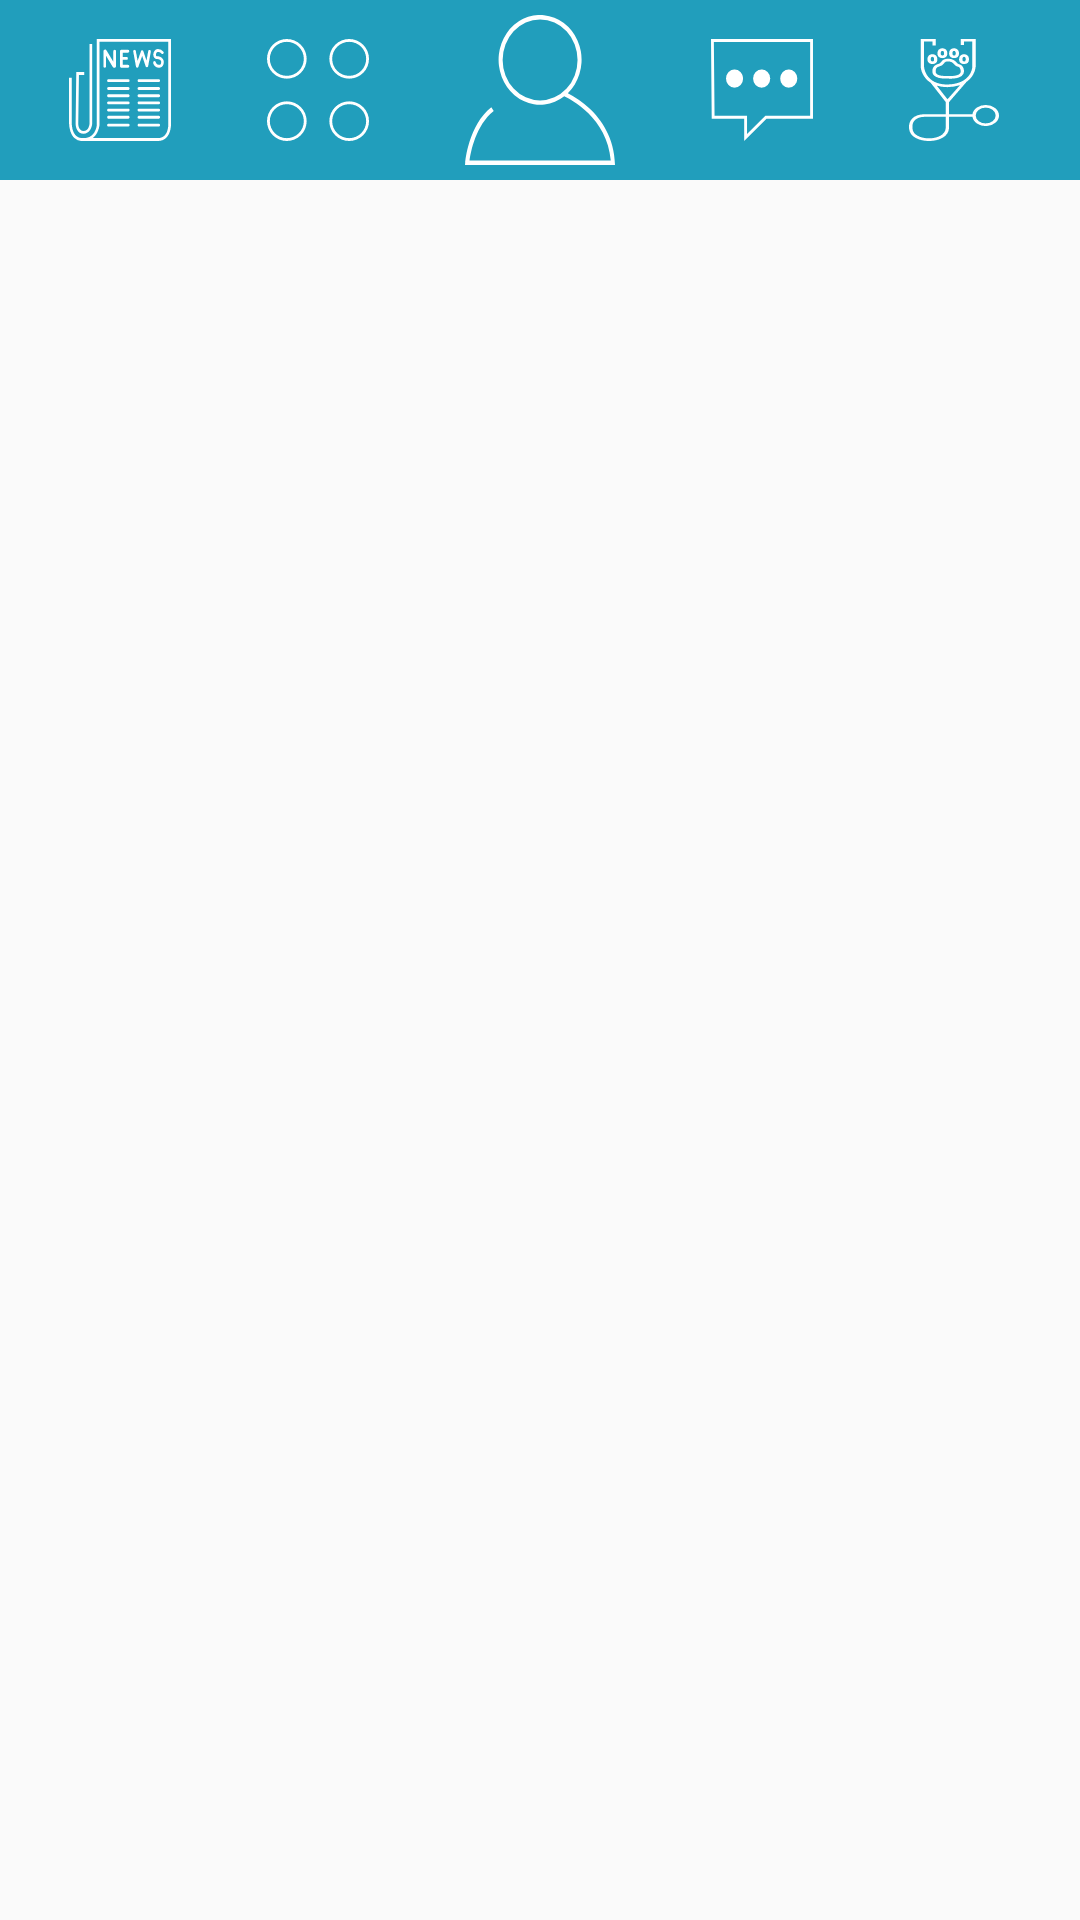

Icon bounding boxes for this 1080w x 1920h phone screenshot, format box(x1, y1, x2, y2):
Message: box(711, 39, 813, 141)
misc: box(267, 39, 369, 141)
user image: box(465, 15, 615, 165)
Vets: box(909, 39, 999, 141)
